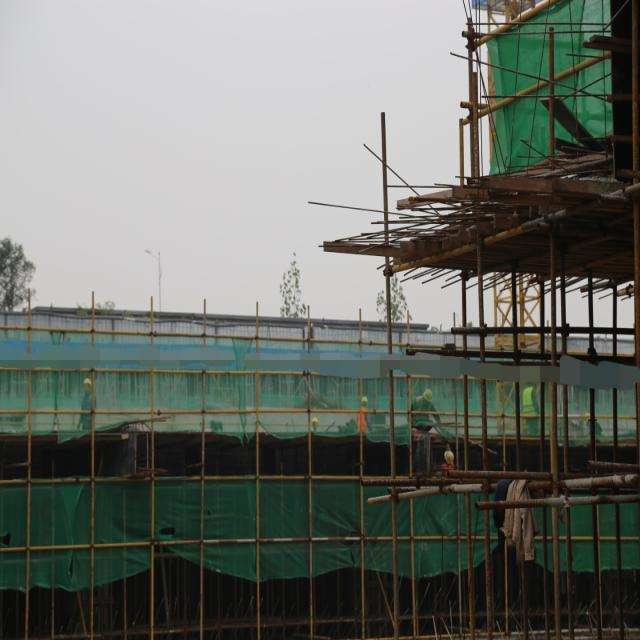crane: (487, 0, 546, 435)
